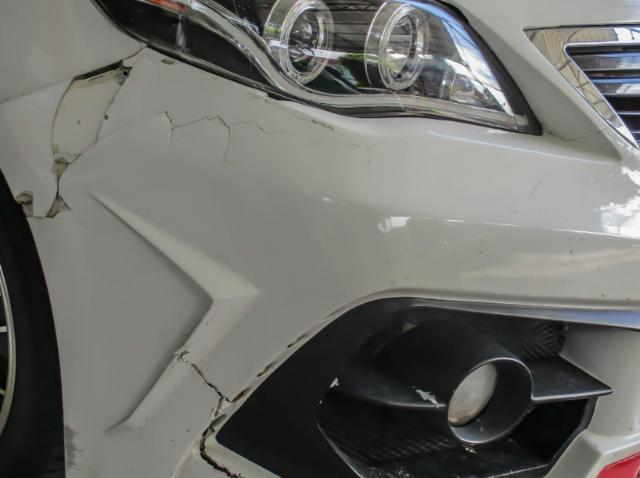Bumper: (107, 292, 307, 478)
Fender: (0, 47, 260, 274)
